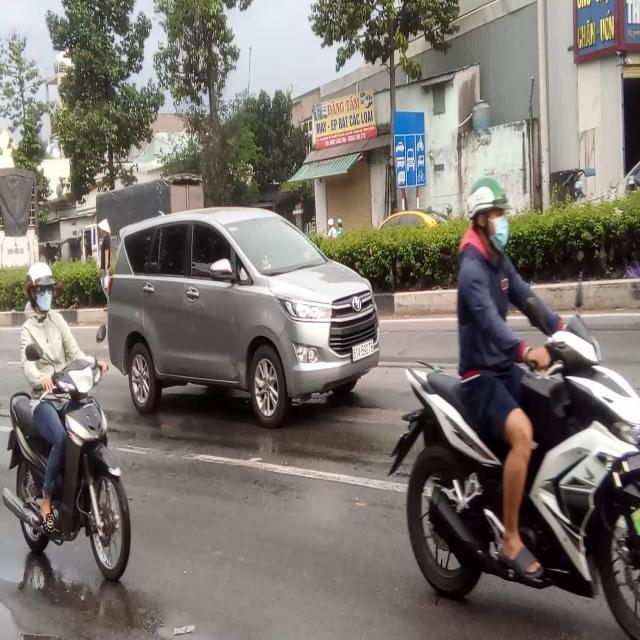bien_trang: (348, 340, 379, 360)
